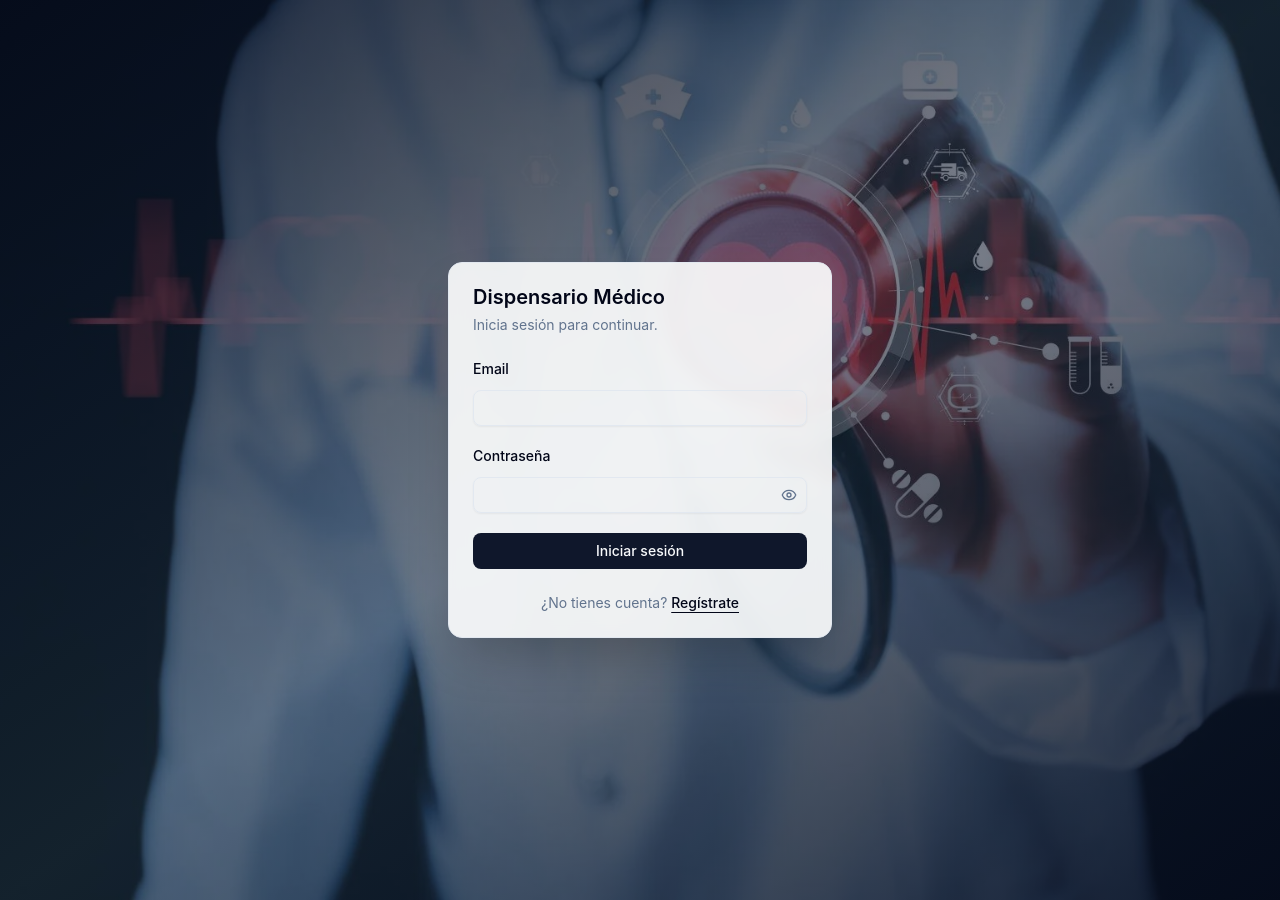
AppRoutes › register › links the login and the register pages
The image size is (1280, 900).
Click the link "Regístrate": {"x": 705, "y": 603} [671, 594, 739, 611]
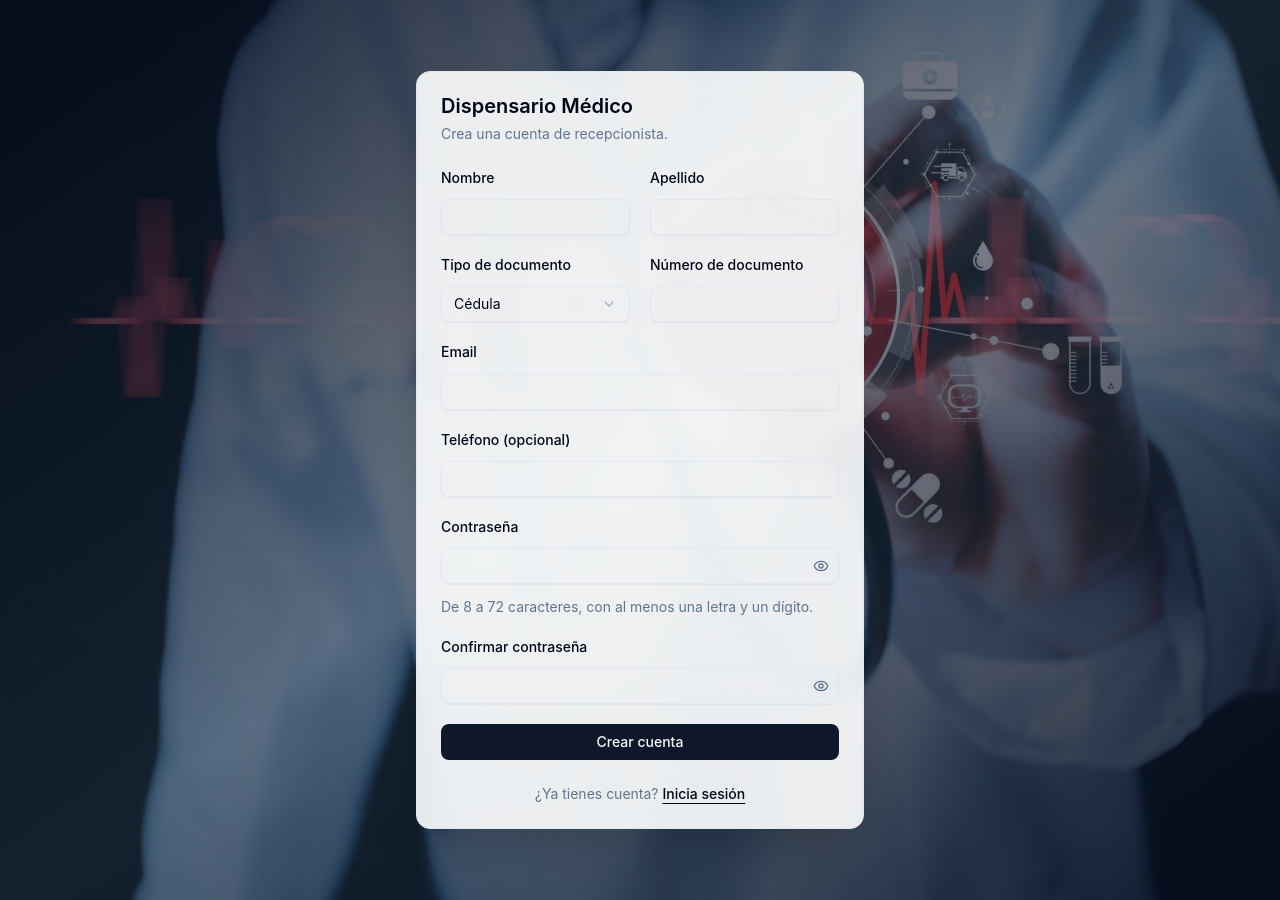
Now the button "Crear cuenta" is shown, box [441, 724, 839, 760]
Click the link "Inicia sesión": {"x": 704, "y": 794} [662, 785, 745, 802]
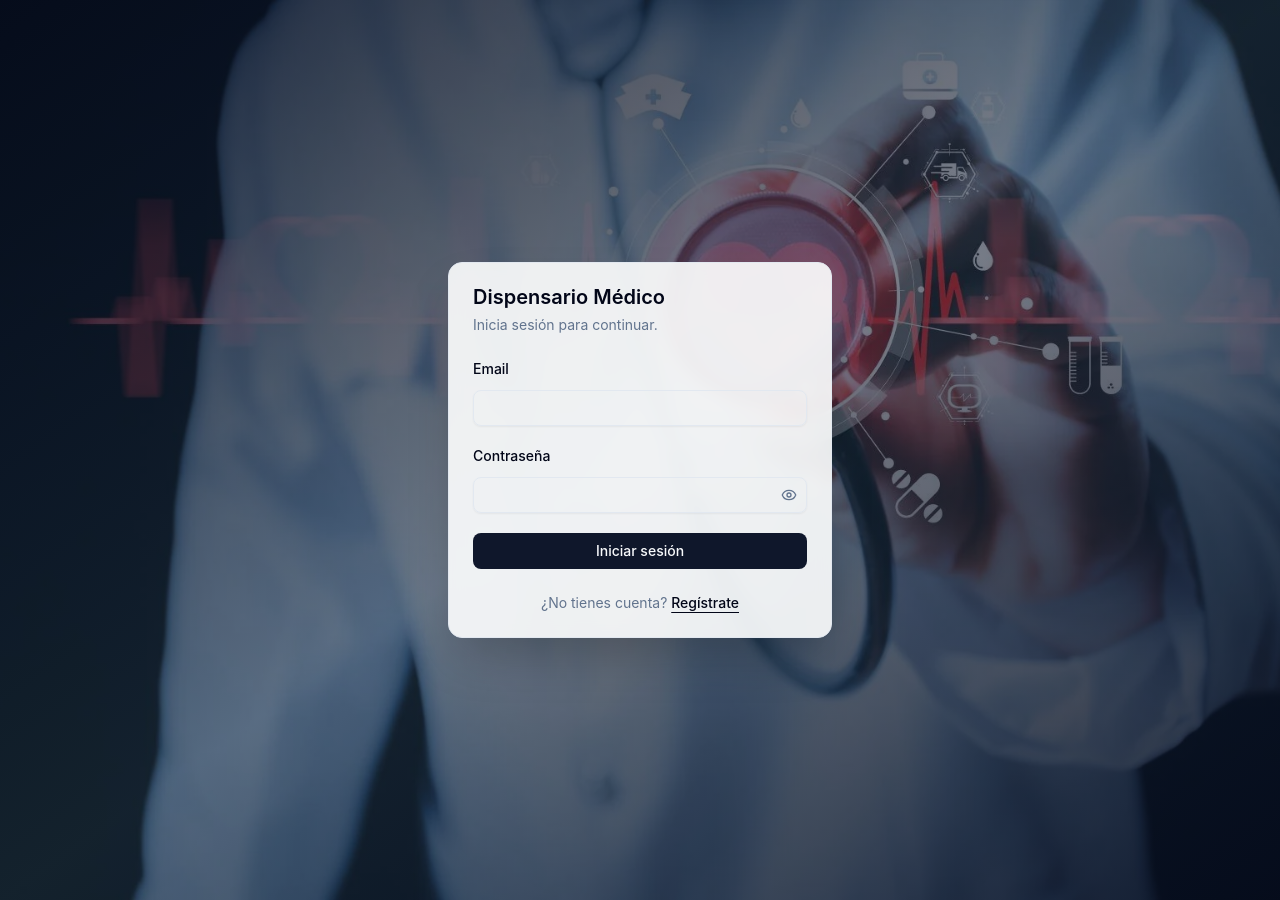
Now the button "Iniciar sesión" is shown, box [473, 533, 807, 569]
